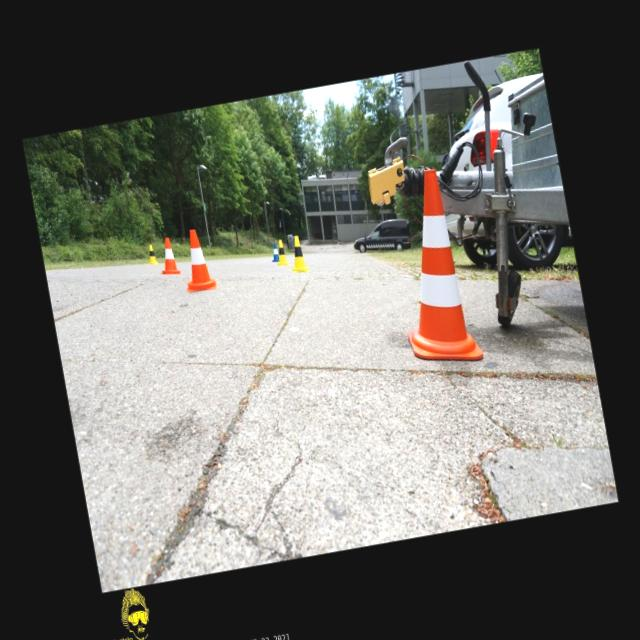blue_cone: (268, 242, 280, 262)
large_orange_cone: (379, 166, 484, 372)
orange_cone: (176, 226, 216, 292), (156, 235, 180, 277)
yellow_cone: (286, 234, 310, 272), (272, 238, 288, 266), (146, 243, 158, 266)
